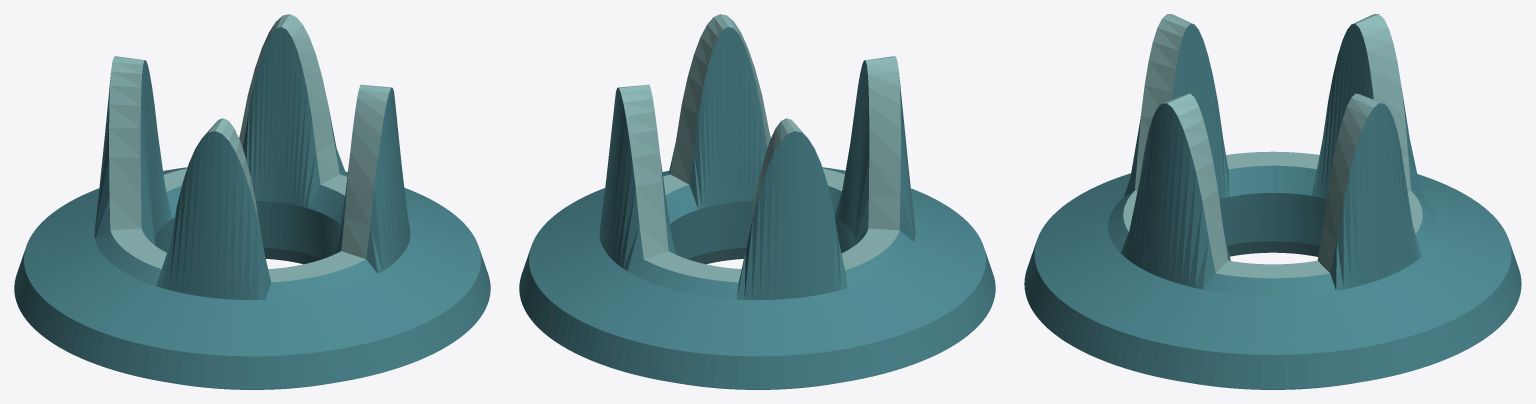
3 views of the same model, side by side, from view 1: azimuth 30°, elevation 25°; view 2: azimuth 150°, elevation 25°; view 3: azimuth 270°, elevation 25° (orthographic). The views are drawn at different scales.
Visible parts, largest first — view 1: WholeAnnularSoleAndIntegralFourProngCrown; view 2: WholeAnnularSoleAndIntegralFourProngCrown; view 3: WholeAnnularSoleAndIntegralFourProngCrown.
Part boxes in pixels (x1,y1,x2,y2): WholeAnnularSoleAndIntegralFourProngCrown: (14,14,490,389); WholeAnnularSoleAndIntegralFourProngCrown: (519,14,995,389); WholeAnnularSoleAndIntegralFourProngCrown: (1024,14,1521,389).
Size of the model in its own units: 0.196 by 0.104 by 0.196.
